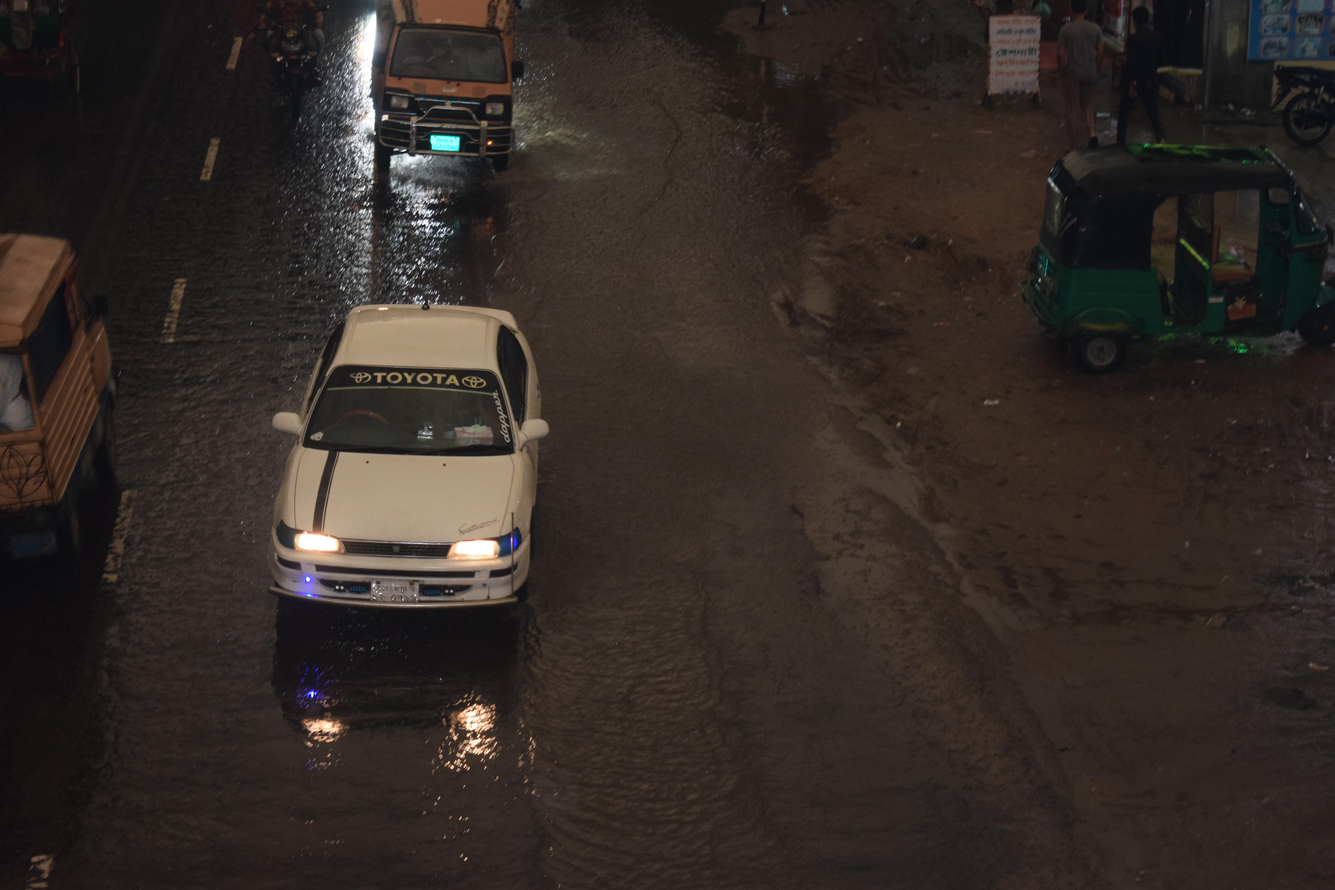Car: (221, 252, 624, 670), (0, 203, 160, 597), (337, 0, 570, 217)
